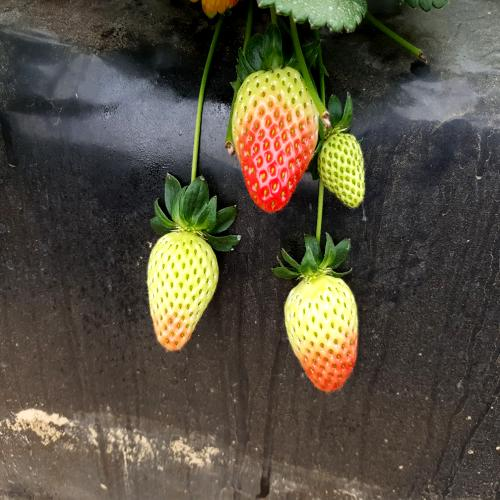partially-ripe: (232, 61, 319, 215), (144, 218, 224, 364), (286, 269, 362, 399)
